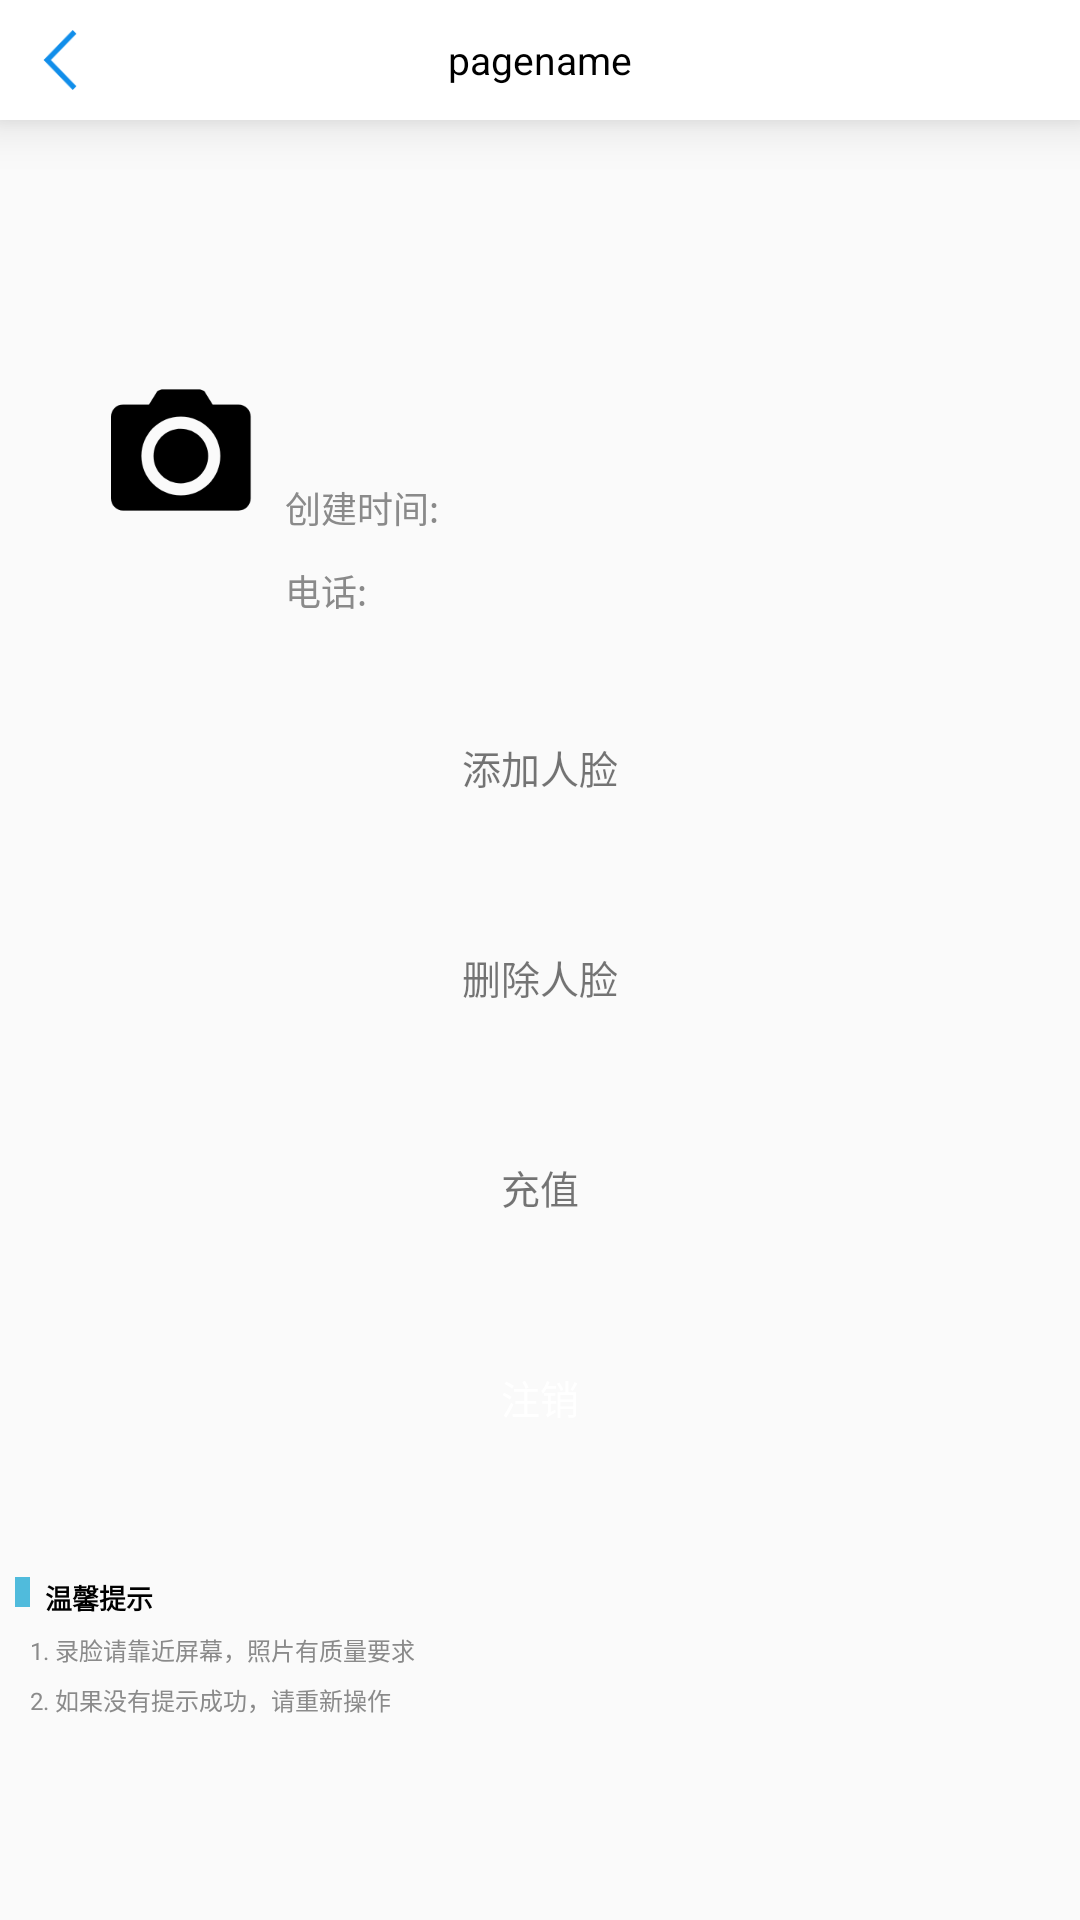

Point at icon controls on the screen. Image size 1080px×1920px, points as (x=x, y=y).
camera: (x=181, y=450)
fanhui: (x=60, y=60)
